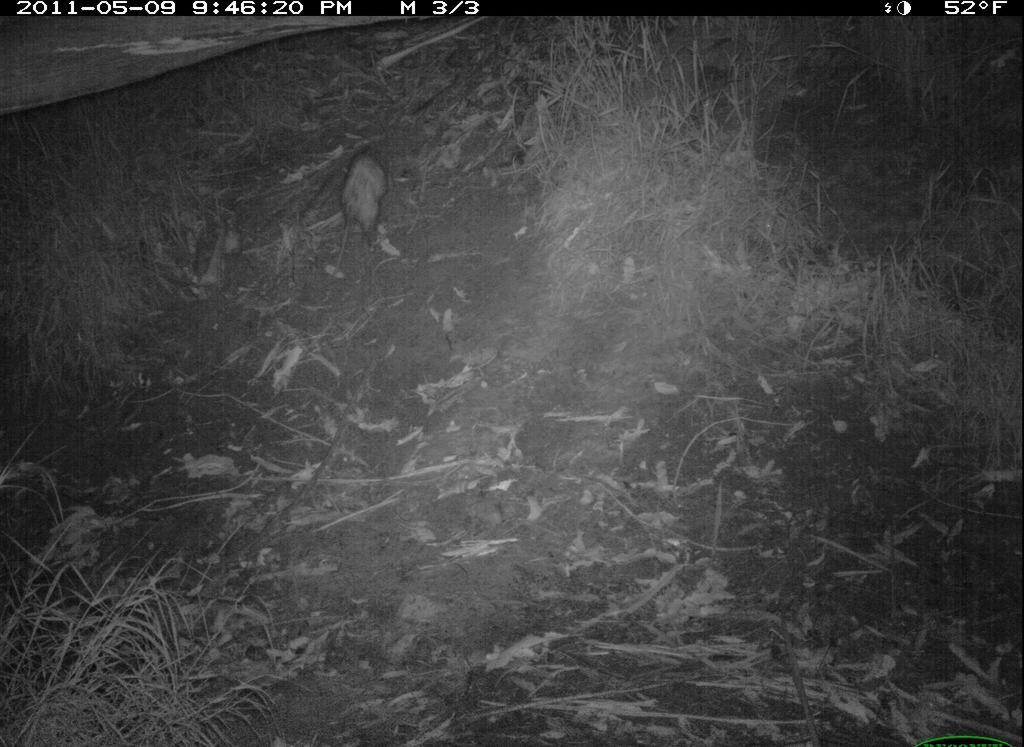opossum: (331, 139, 397, 294)
